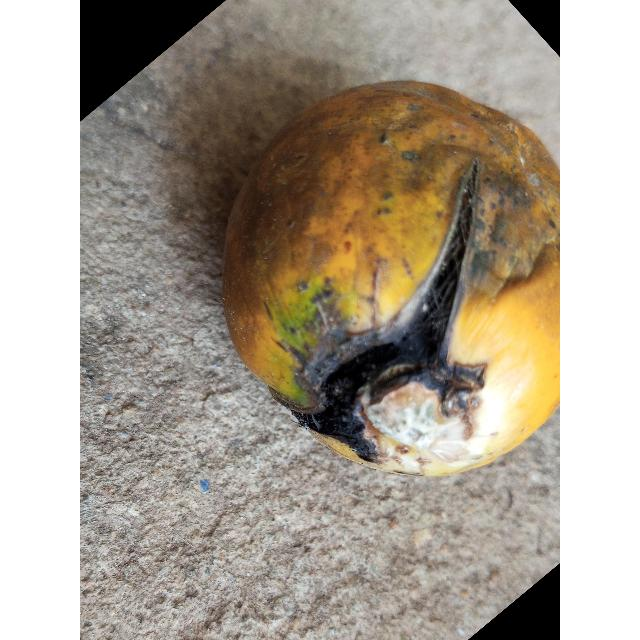damaged: (221, 80, 560, 481)
